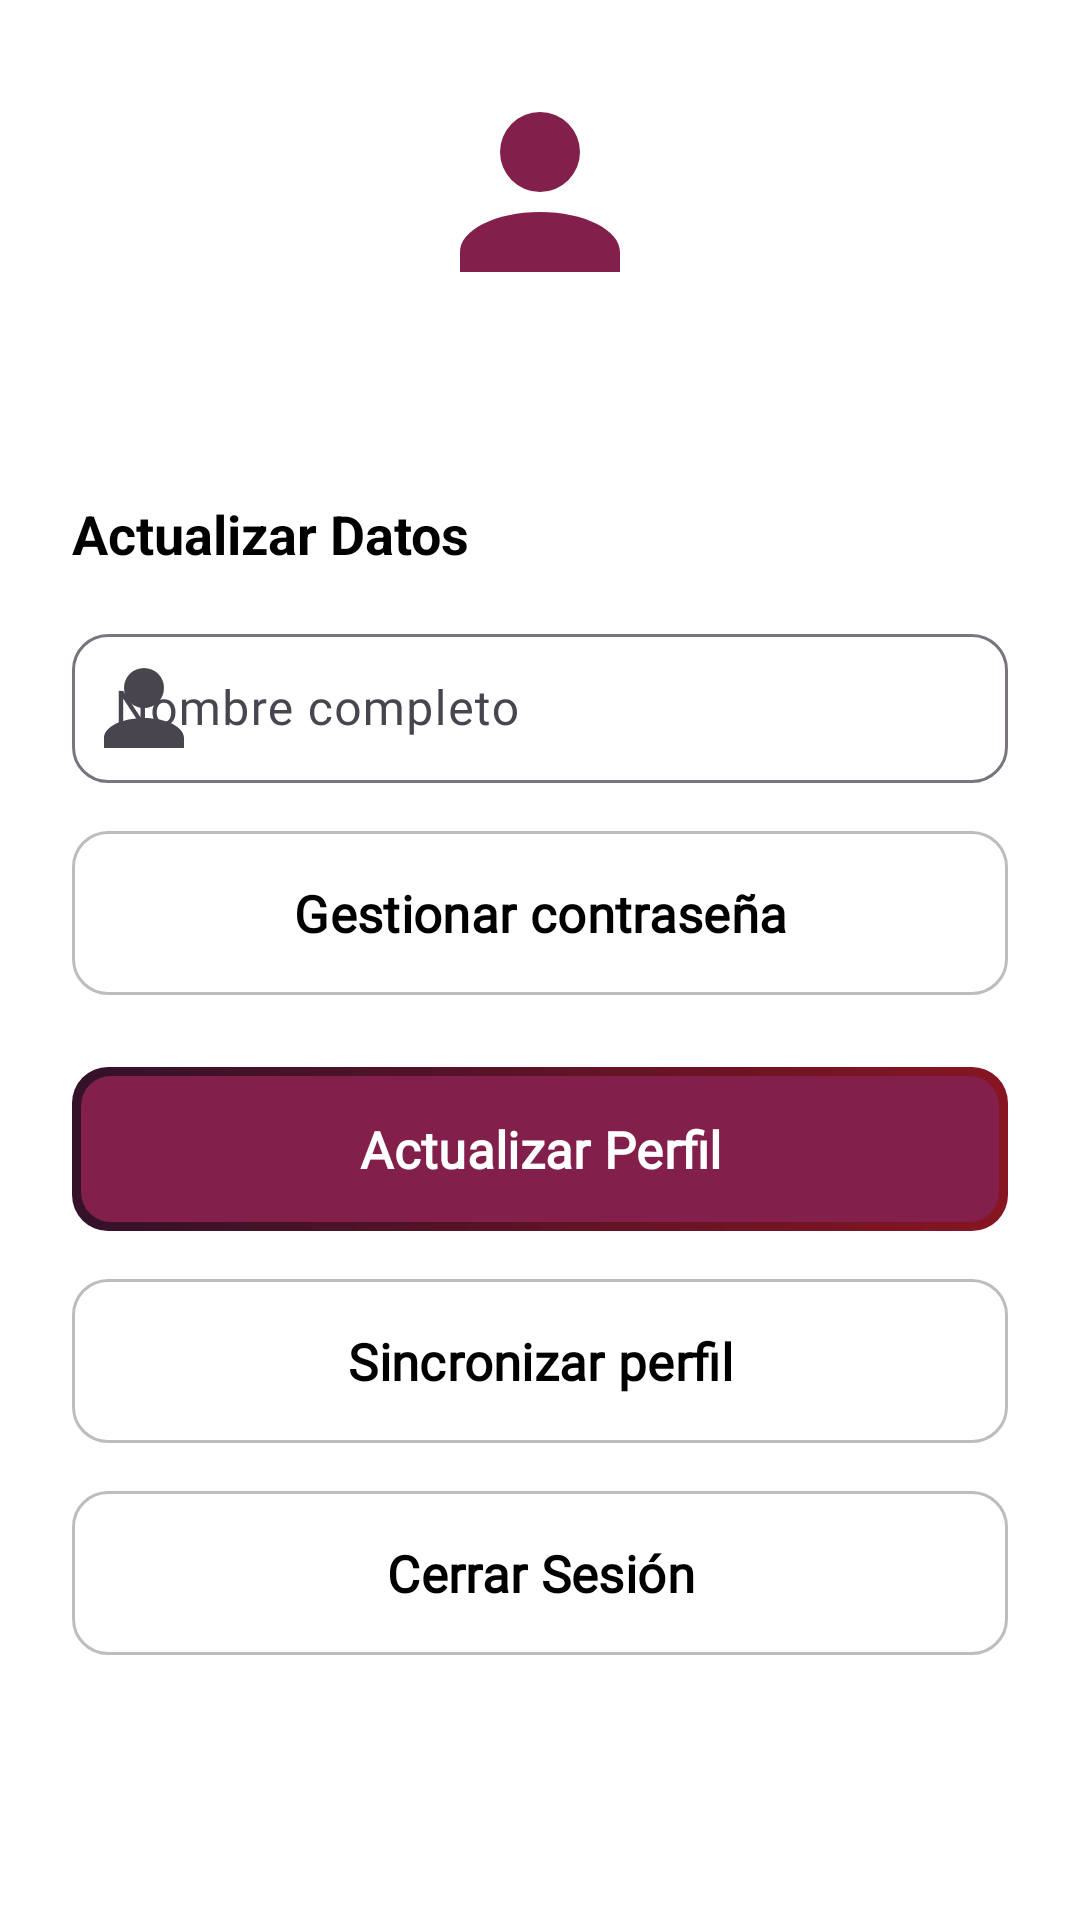

Point at icon controls on the screen. Image size 1080*1920, points as (x=x, y=y).
person: (x=540, y=192)
